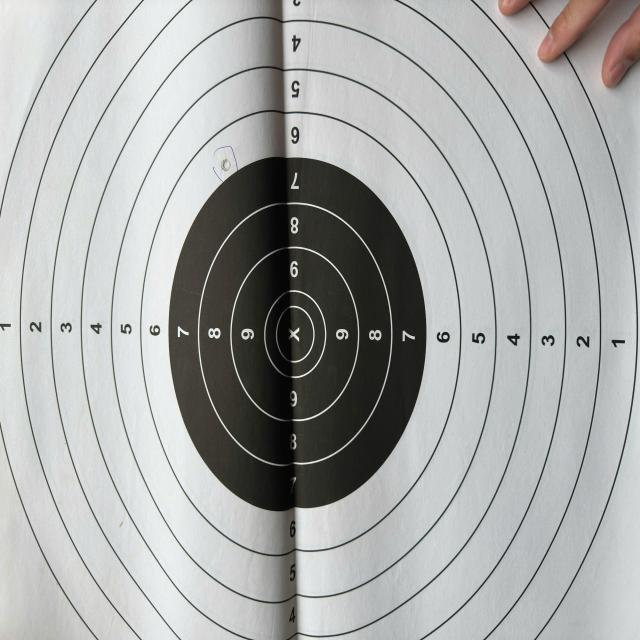bullet: (220, 156, 235, 172)
